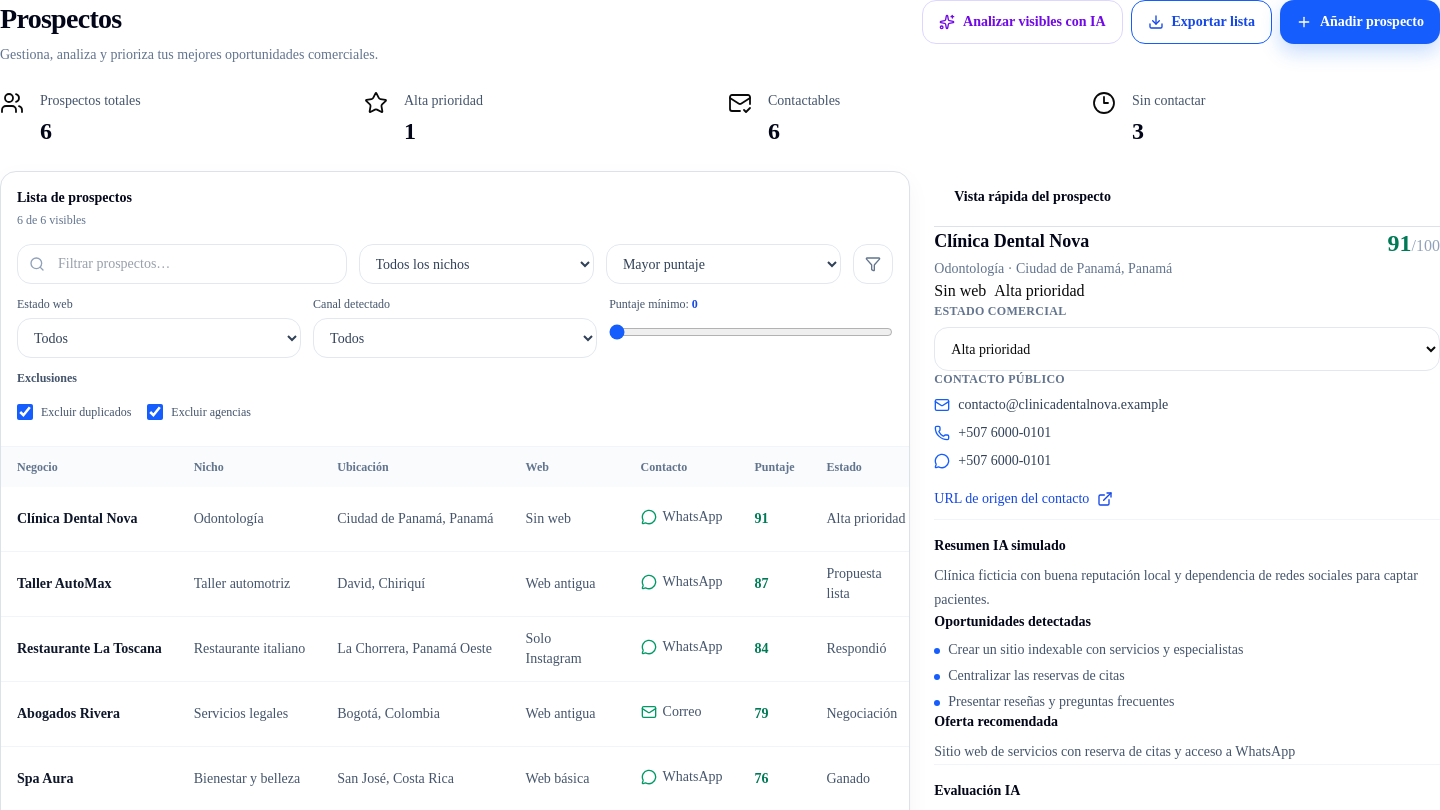
it: centro de prospectos › añade manualmente un prospecto al repositorio y a la tabla
The image size is (1440, 810).
Click the button "Añadir prospecto": (1360, 22) [1280, 0, 1439, 44]
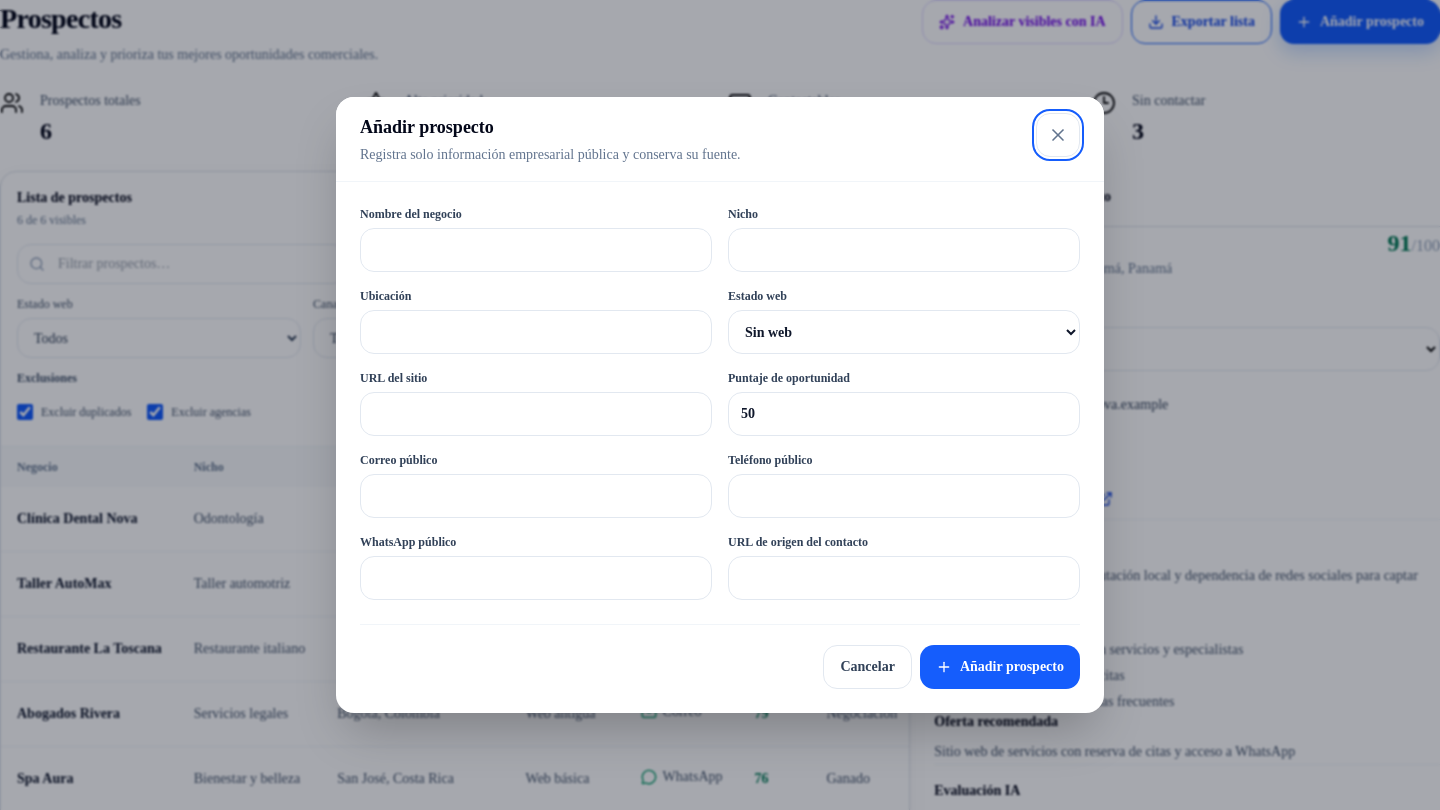
In the field labelled "Nombre del negocio": (536, 250) [360, 228, 712, 272], type "Café Horizonte"
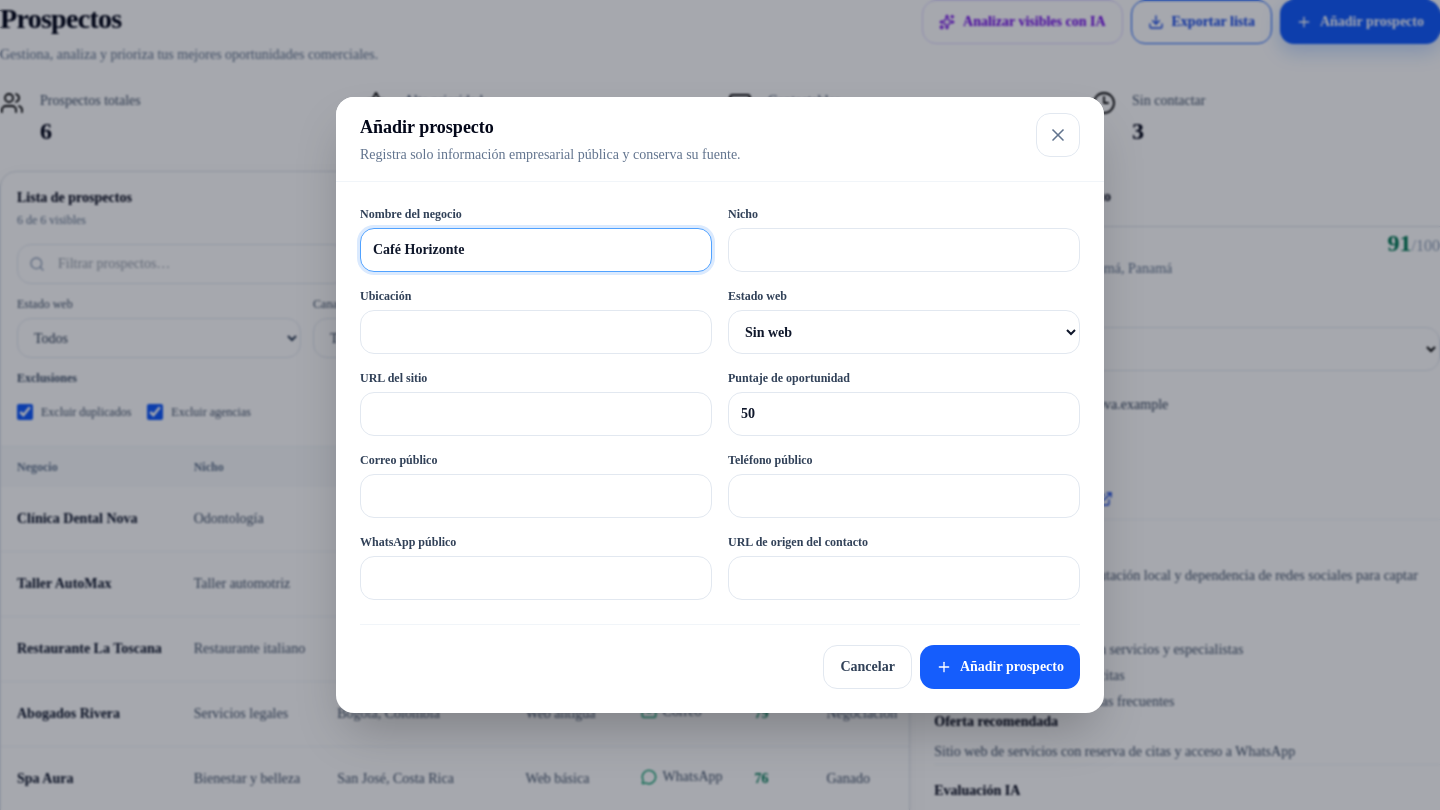
In the field labelled "Nicho": (904, 250) [728, 228, 1080, 272], type "Cafetería"
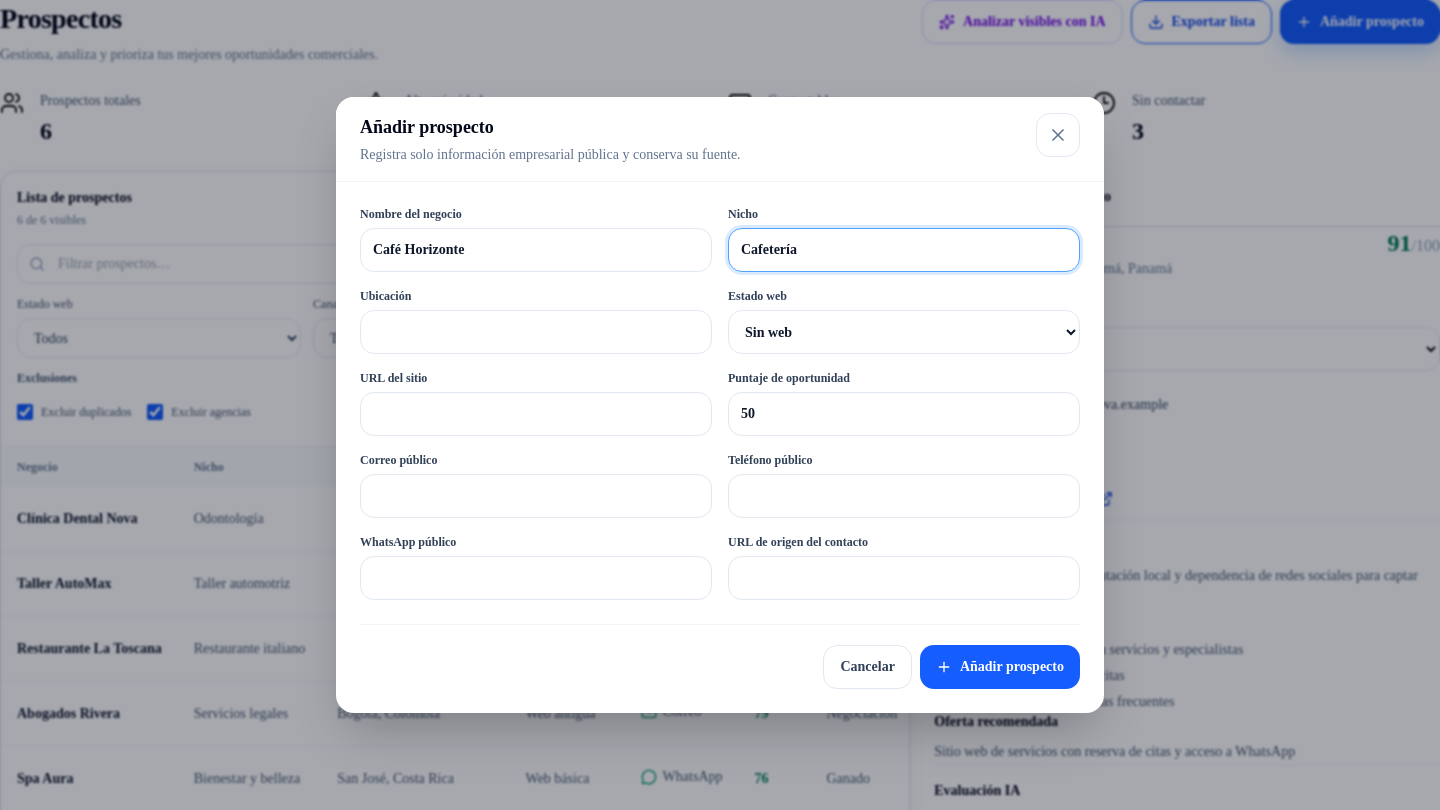
In the field labelled "Ubicación": (536, 332) [360, 310, 712, 354], type "Ciudad de Panamá"
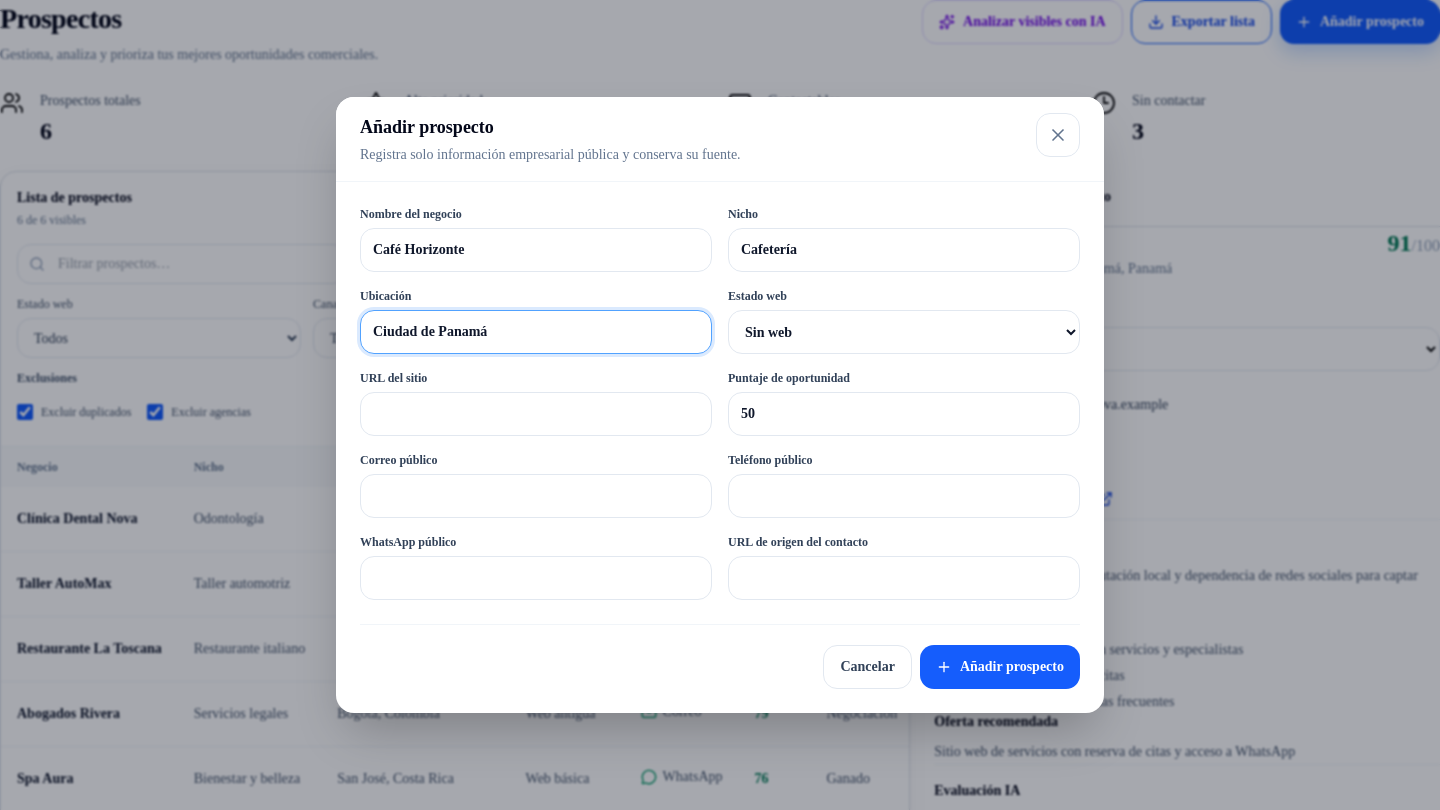
Click the button "Añadir prospecto": (1000, 667) [920, 645, 1080, 689]
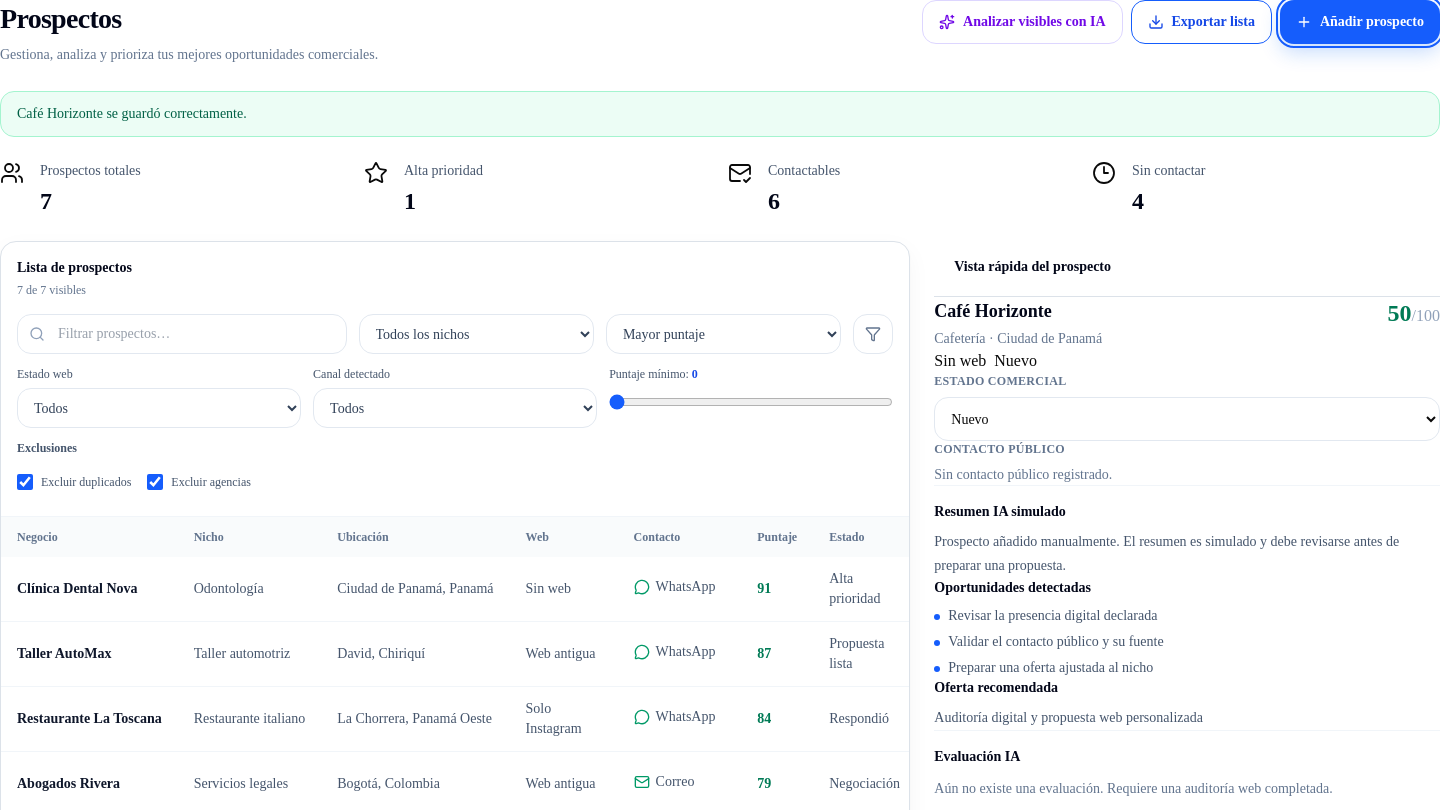
Now the text "Café Horizonte se guardó correctamente." is shown, box [0, 91, 1439, 137]
